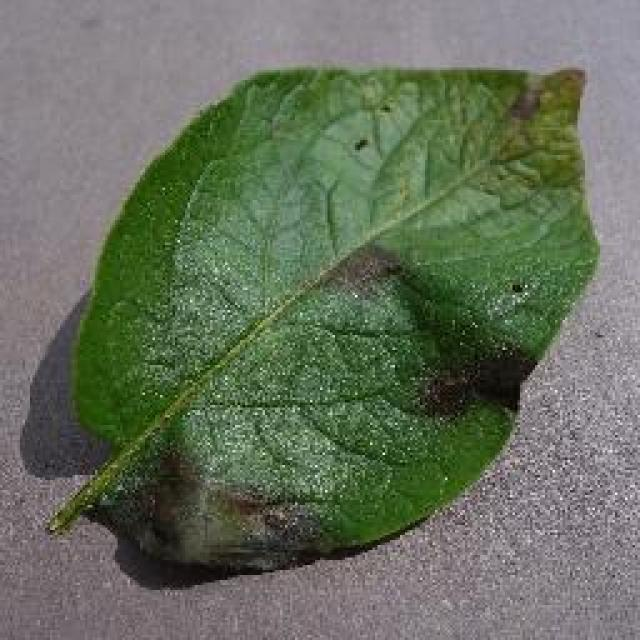late_blight: (45, 60, 603, 575)
